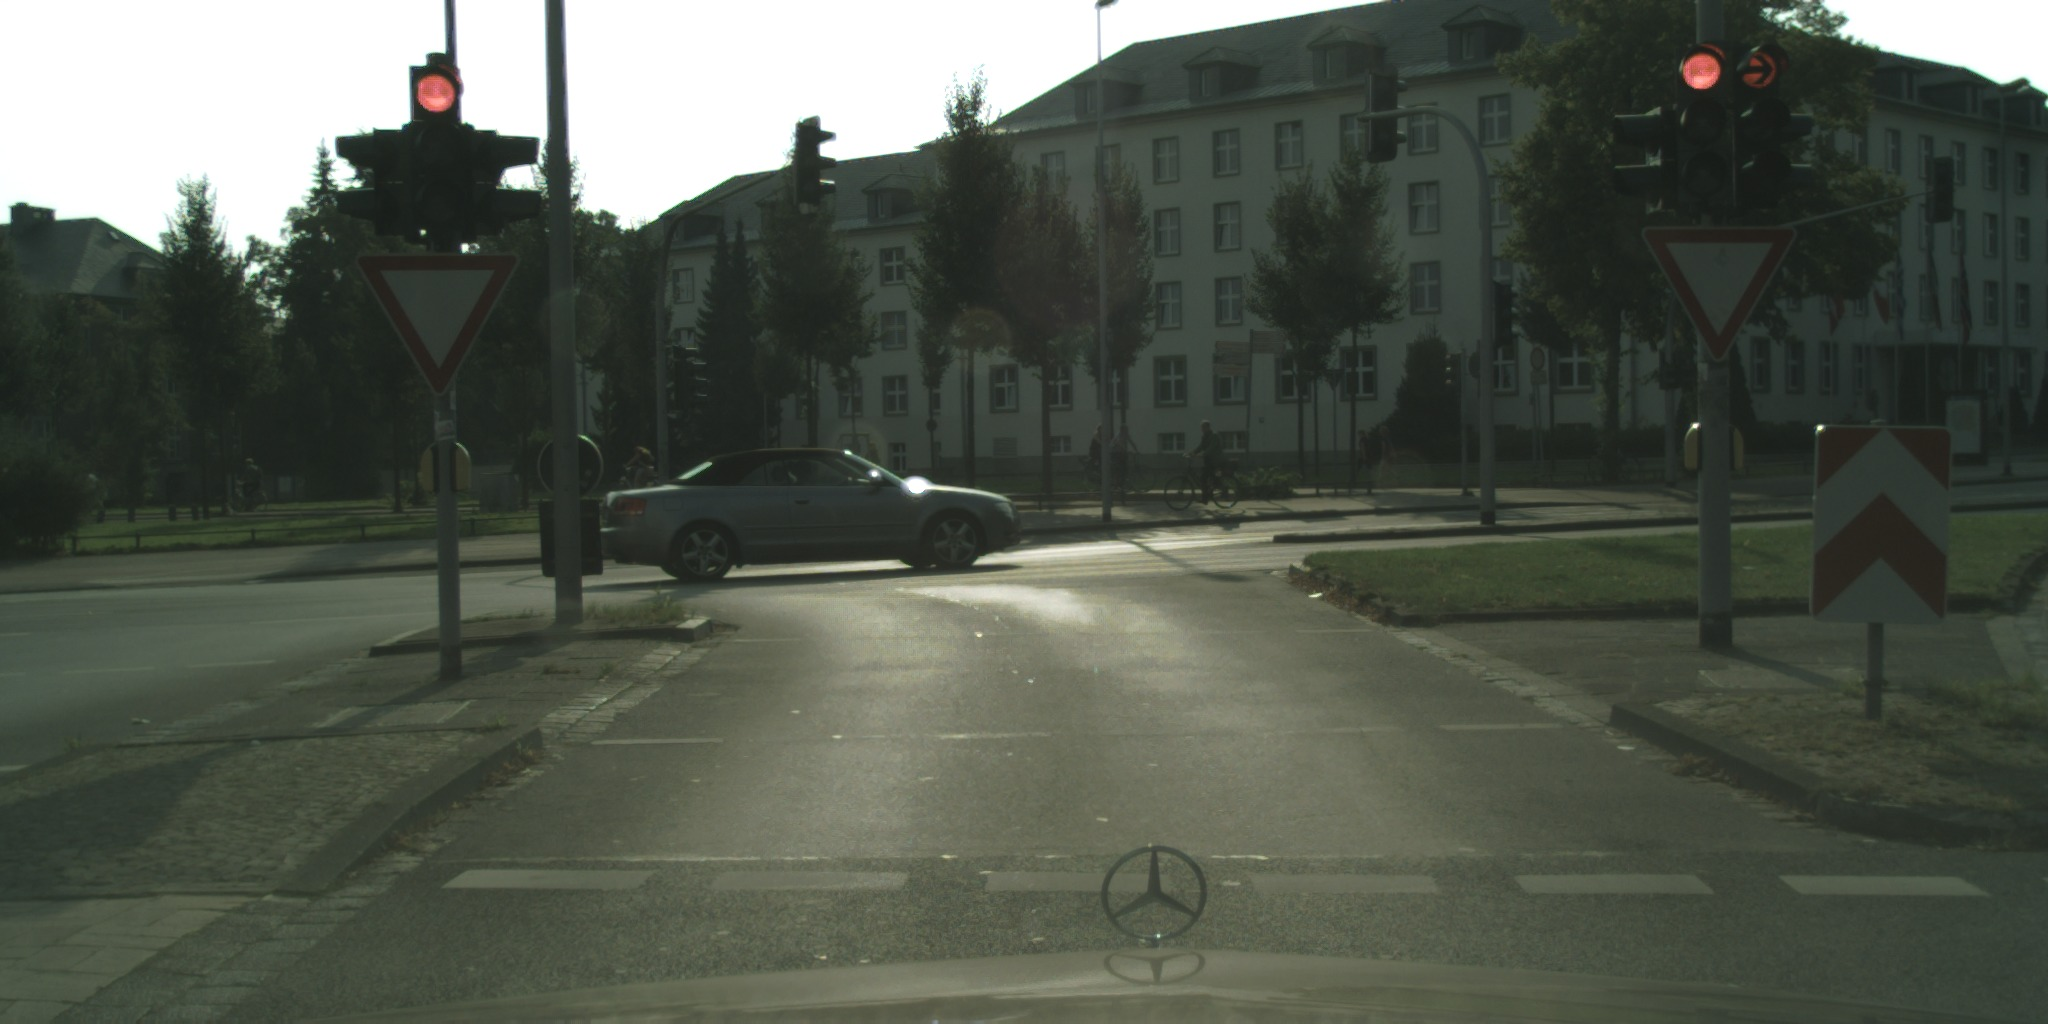bicycle: (1165, 452, 1241, 511), (1107, 448, 1156, 495), (233, 481, 267, 514), (1077, 454, 1102, 491)
car: (598, 445, 1025, 584)
person: (617, 446, 661, 496), (1375, 426, 1404, 485), (1354, 428, 1378, 484), (865, 437, 879, 478)
rider: (1186, 420, 1224, 505), (1110, 421, 1139, 480), (236, 459, 263, 509), (1087, 423, 1104, 481)
